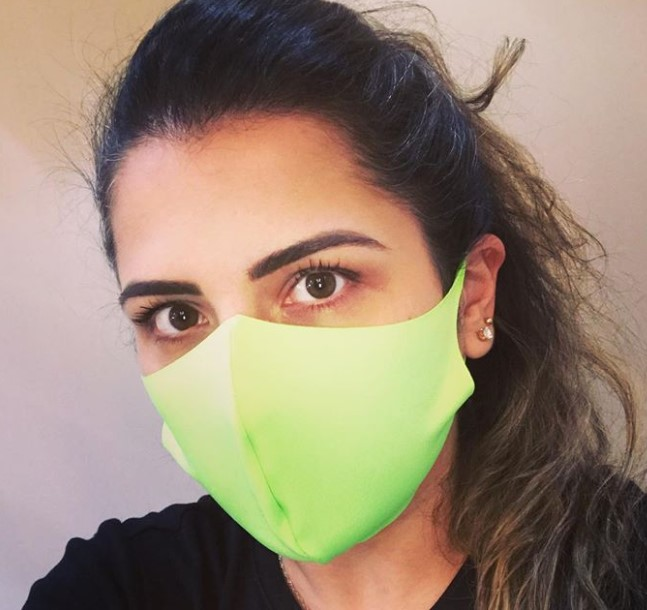face_with_mask: (91, 3, 508, 568)
